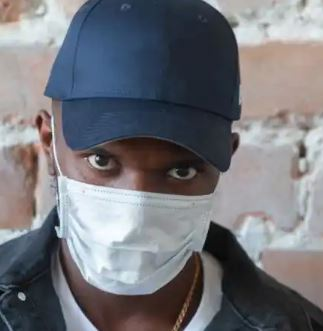with_facemask: (63, 168, 210, 294)
